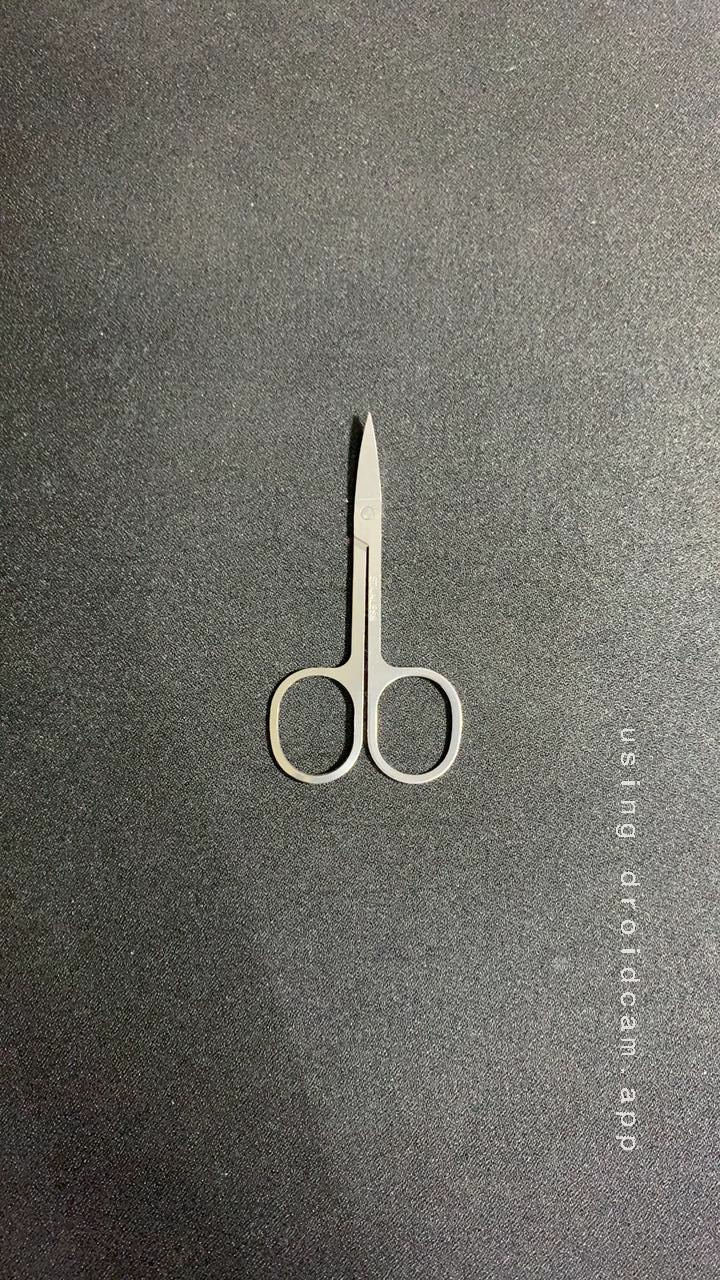scissor: (231, 408, 489, 801)
